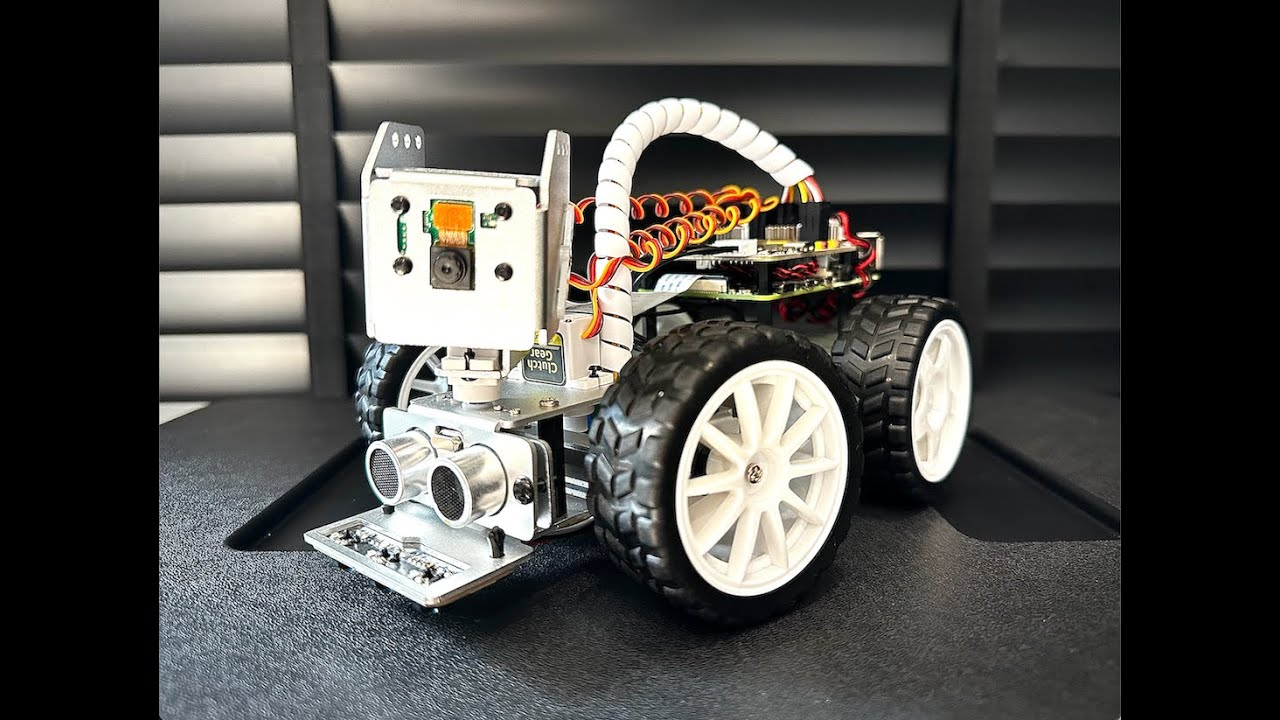vehicle: (295, 89, 982, 642)
